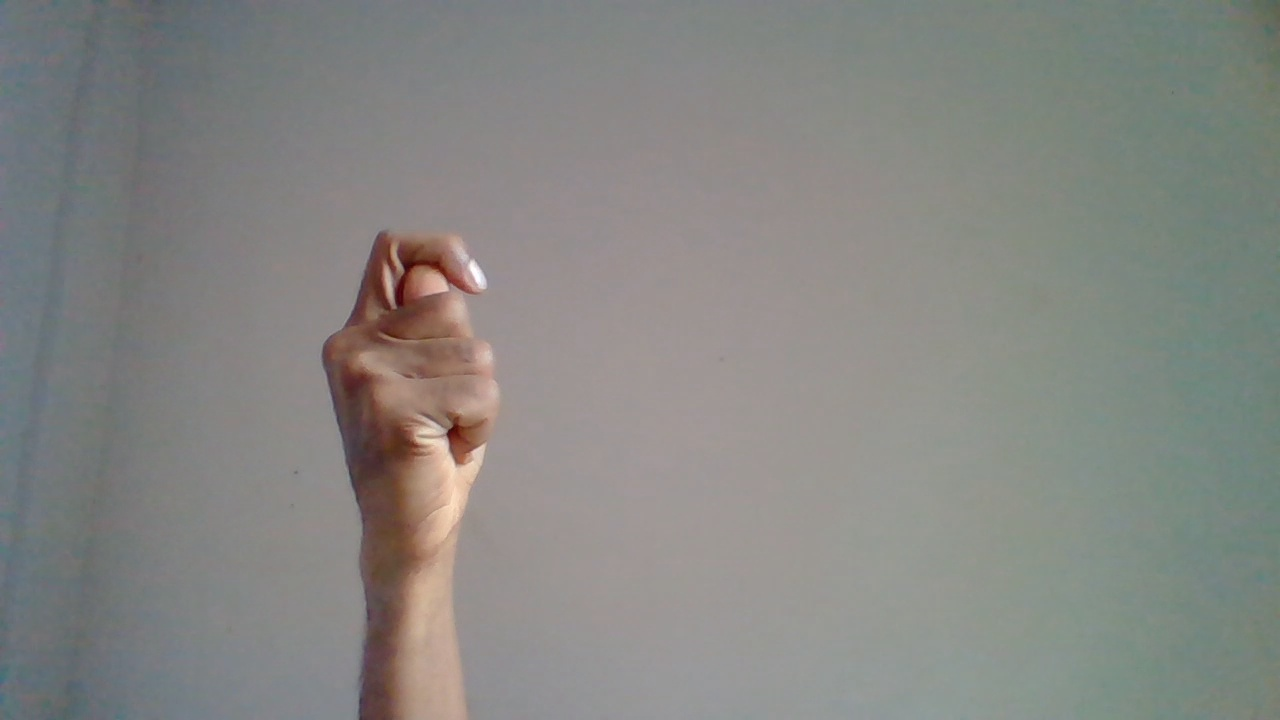che: (317, 228, 503, 677)
